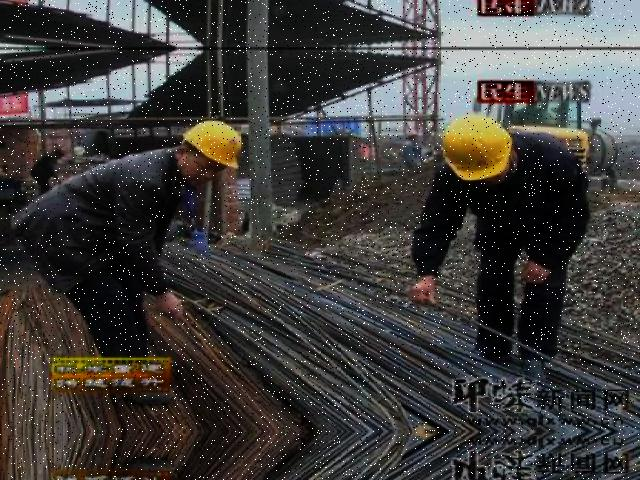Helmet: (432, 108, 514, 187), (172, 117, 249, 172)
